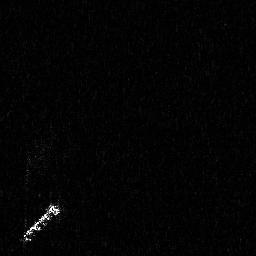ship: (19, 200, 66, 246)
